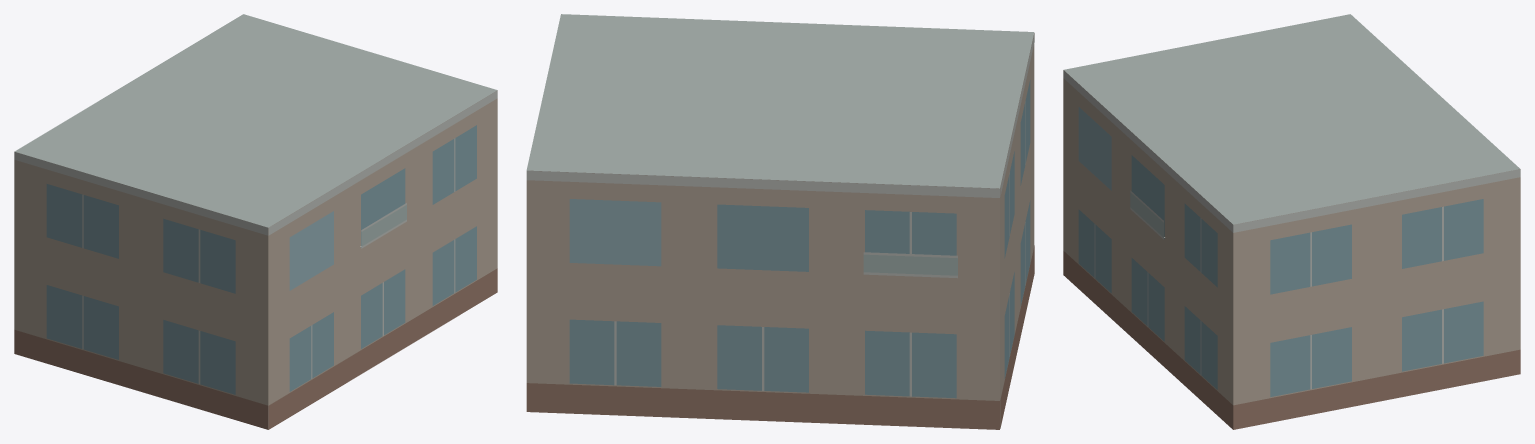
The model's file is survey-upis-32912644.glb.
3 views of the same model, side by side, from view 1: azimuth 30°, elevation 25°; view 2: azimuth 150°, elevation 25°; view 3: azimuth 270°, elevation 25° (orthographic). The views are drawn at different scales.
Parts seen in each view (by area): view 1: survey-upis-32912644.tmp; view 2: survey-upis-32912644.tmp; view 3: survey-upis-32912644.tmp.
Boxes of the visible parts, box(x1,y1,x2,y2) form: survey-upis-32912644.tmp: box(14, 14, 497, 429); survey-upis-32912644.tmp: box(526, 14, 1034, 429); survey-upis-32912644.tmp: box(1063, 14, 1520, 429).
Size of the model in its own units: 13.45 by 6.1 by 12.33.
